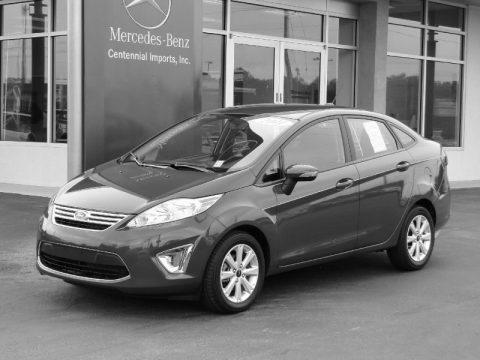car: (36, 105, 453, 315)
